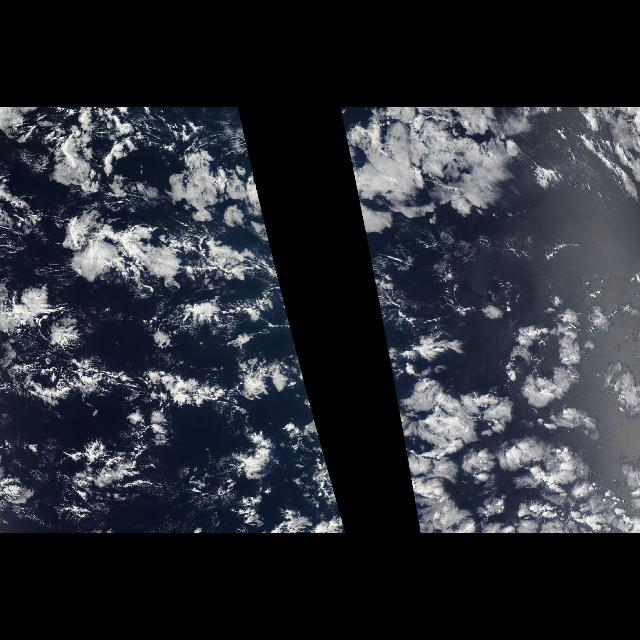Flower: (0, 108, 346, 528), (338, 108, 640, 532)
